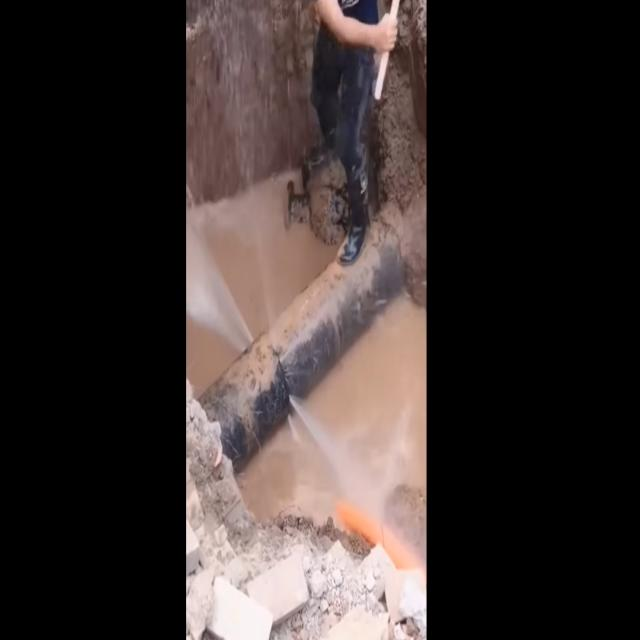leak: (186, 222, 252, 353), (288, 400, 341, 524)
